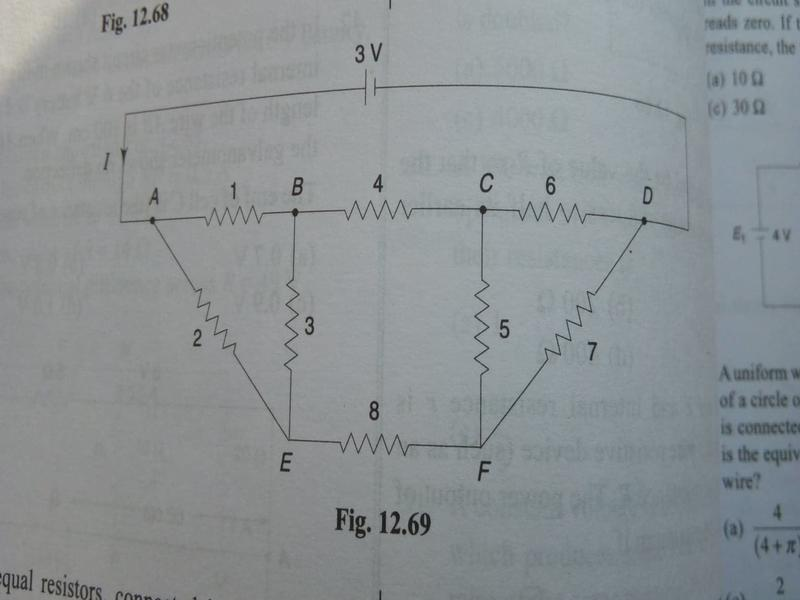resistor: (533, 284, 612, 375), (185, 274, 246, 366), (462, 274, 501, 384), (276, 266, 311, 385), (321, 427, 427, 462), (506, 195, 602, 230), (329, 194, 429, 227), (188, 201, 283, 234)
